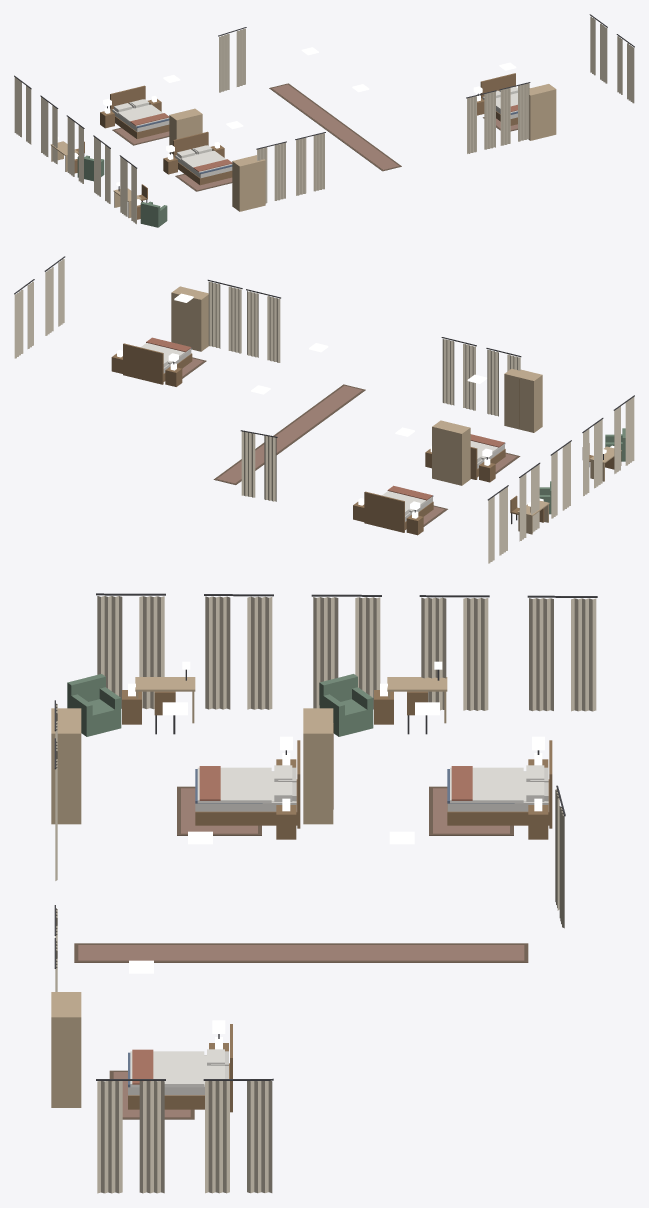
File: fine-s3.glb
3 renders of one model, top to bottom at view 1: azimuth 30°, elevation 25°; view 2: azimuth 150°, elevation 25°; view 3: azimuth 270°, elevation 25°, orthographic. The views are drawn at different scales.
Visible parts, largest first — view 1: soft-s3, dresser.008, dresser.006, bed-frame.007, bed-frame.008, dresser.007, bed-frame.006, lounge-chair.005, lounge-chair.004; view 2: soft-s3, dresser.007, dresser.008, dresser.006, bed-frame.006, bed-frame.007, bed-frame.008; view 3: soft-s3, dresser.007, dresser.006, dresser.008, bed-frame.007, bed-frame.008, lounge-chair.005, lounge-chair.004, bed-frame.006, writing-desk.005, writing-desk.004.
Boxes of the visible parts, x1,y1,x2,y2 form: soft-s3: (14, 14, 634, 224); dresser.008: (232, 155, 265, 211); dresser.006: (528, 84, 556, 140); bed-frame.007: (110, 85, 169, 138); bed-frame.008: (173, 131, 232, 185); dresser.007: (169, 108, 202, 153); bed-frame.006: (480, 73, 517, 125); lounge-chair.005: (140, 201, 167, 227); lounge-chair.004: (77, 155, 104, 181); soft-s3: (14, 256, 634, 563); dresser.007: (432, 420, 470, 485); dresser.008: (504, 369, 542, 432); dresser.006: (171, 286, 208, 351); bed-frame.006: (123, 343, 192, 384); bed-frame.007: (364, 491, 433, 532); bed-frame.008: (470, 443, 505, 479); soft-s3: (54, 593, 597, 1193); dresser.007: (303, 708, 333, 824); dresser.006: (51, 992, 81, 1107); dresser.008: (51, 708, 81, 824); bed-frame.007: (447, 740, 552, 828); bed-frame.008: (195, 740, 300, 828); lounge-chair.005: (67, 674, 121, 736); lounge-chair.004: (319, 674, 373, 736); bed-frame.006: (128, 1024, 232, 1112); writing-desk.005: (135, 661, 195, 723); writing-desk.004: (387, 661, 447, 723).
Bounding box in the file's own units: 22.98 × 2.58 × 10.91.
